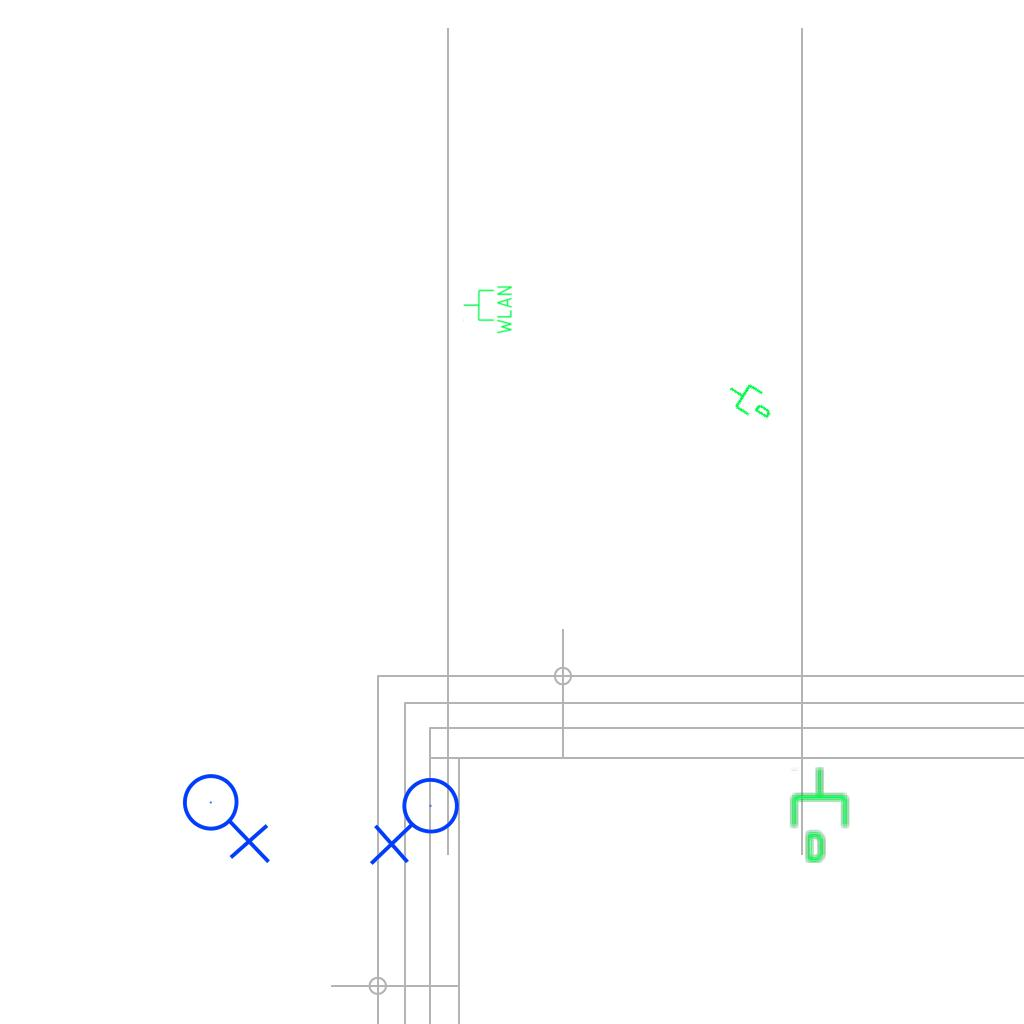Datenanschluss_einfach: (787, 765, 856, 865), (720, 372, 782, 428)
Elektroanschluss_allgemein_230V_Geraeteanschlussdose_230V: (369, 776, 468, 870), (181, 765, 275, 864)
WLAN: (462, 284, 514, 336)
